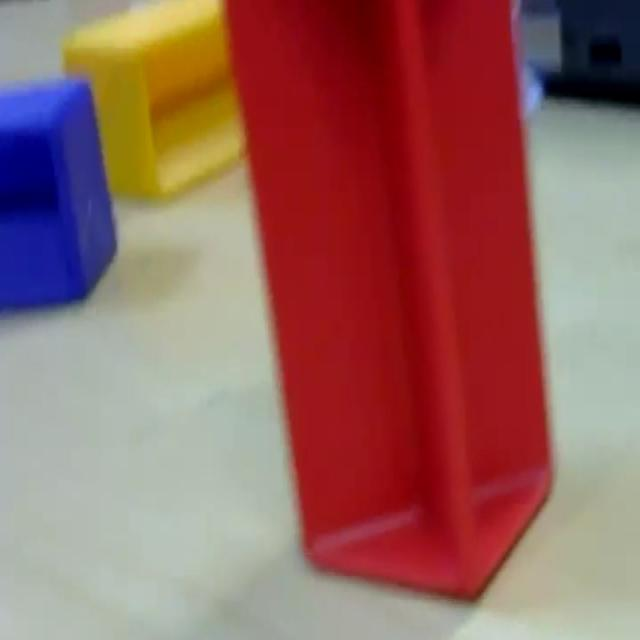blue_block: (0, 73, 118, 311)
red_block: (224, 0, 555, 603)
yellow_block: (60, 0, 244, 201)
